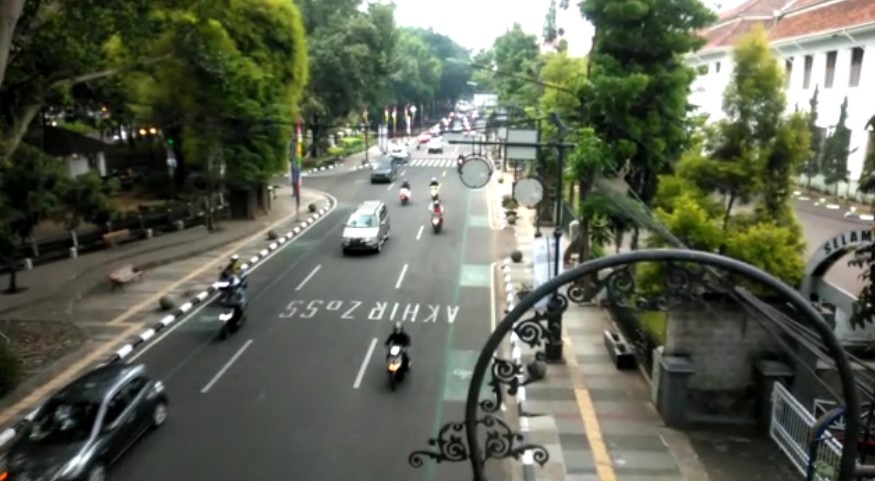mobil: (1, 366, 166, 481), (341, 200, 391, 254)
motor: (378, 321, 415, 393), (215, 283, 248, 336), (426, 201, 445, 234), (425, 178, 444, 206), (396, 179, 410, 204)
